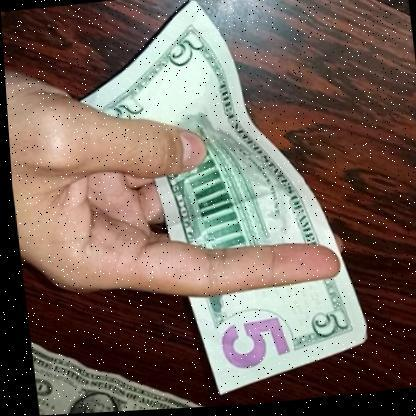five-back: (86, 0, 367, 412)
one-front: (23, 317, 195, 416)
